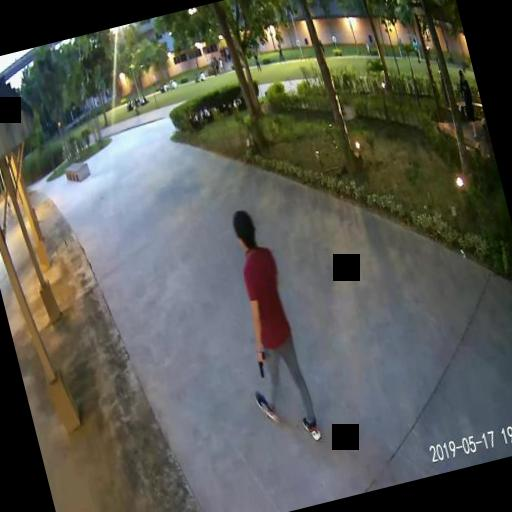Handgun: (253, 350, 268, 376)
